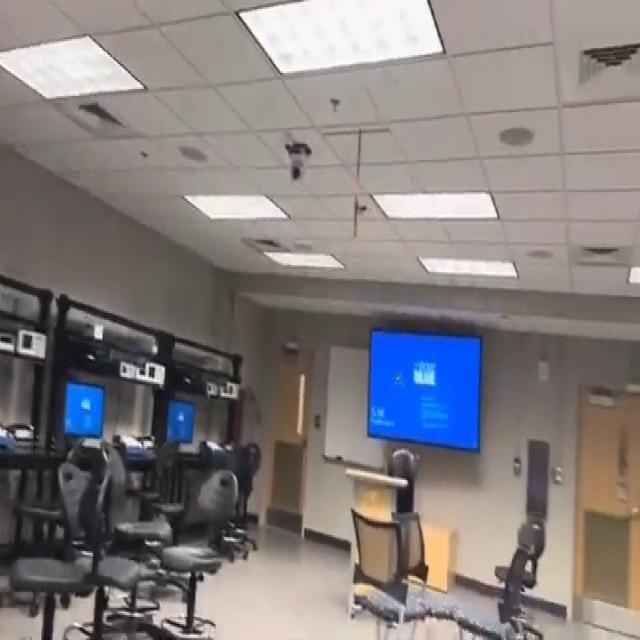drone: (388, 361, 406, 395)
